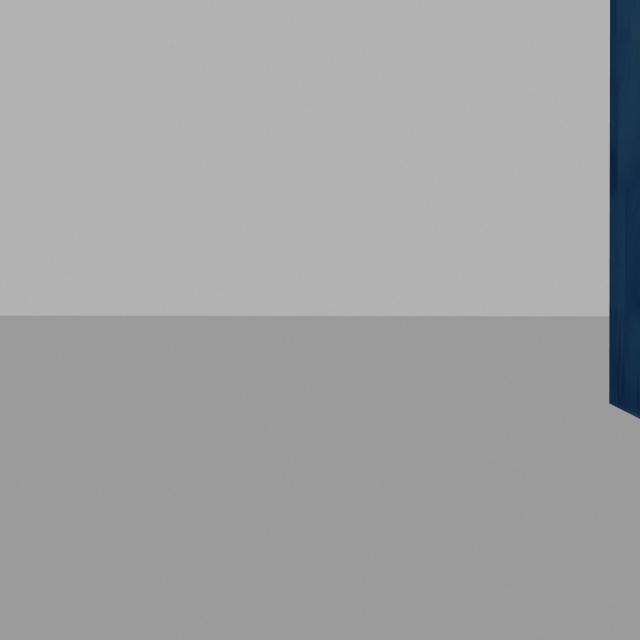shelf: (598, 0, 640, 435)
